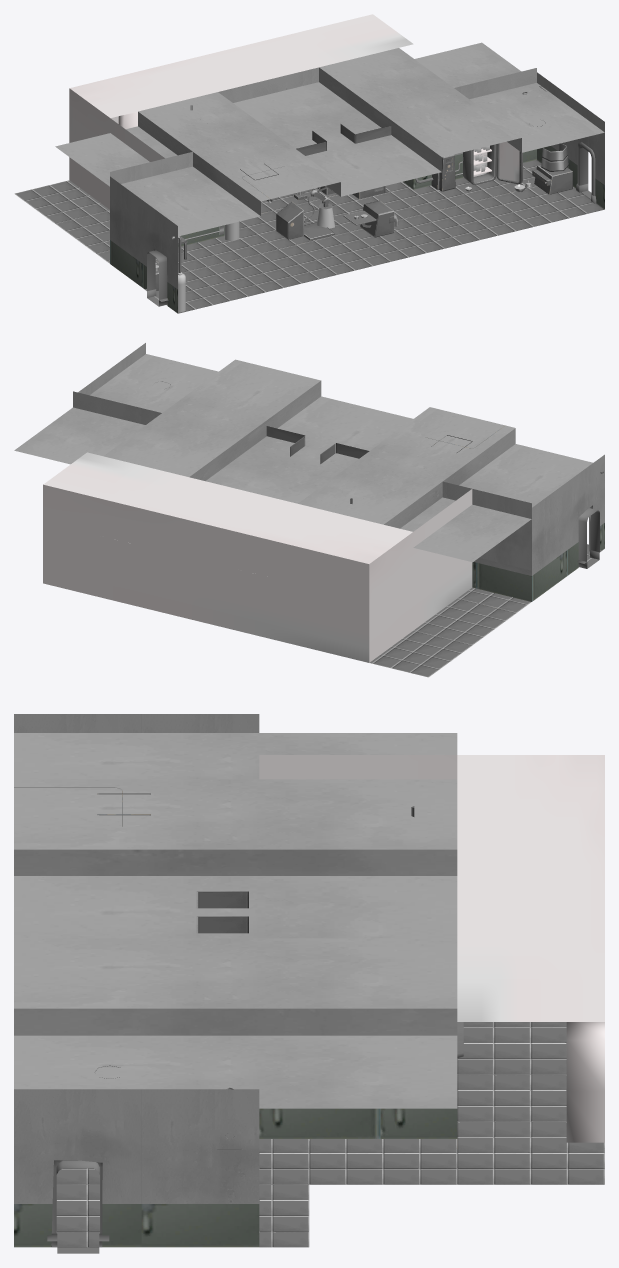
The model's file is MSH_Science_Lab_room_L2_R3_optimized.fbx.
The picture shows the model from 3 angles, top to bottom: view 1: azimuth 30°, elevation 25°; view 2: azimuth 150°, elevation 25°; view 3: azimuth 270°, elevation 25°; orthographic projection. The views are drawn at different scales.
Visible parts, largest first — view 1: lightmap0, lightmap1, lightmap-1; view 2: lightmap0, lightmap-1; view 3: lightmap0, lightmap1.
Boxes of the visible parts, left/top/right/bottom form: lightmap0: left=14, top=14, right=604, bottom=313; lightmap1: left=118, top=105, right=572, bottom=312; lightmap-1: left=147, top=145, right=591, bottom=306; lightmap0: left=14, top=343, right=604, bottom=677; lightmap-1: left=578, top=508, right=599, bottom=568; lightmap0: left=14, top=714, right=604, bottom=1247; lightmap1: left=14, top=787, right=604, bottom=1142.
Size of the model in its own units: 30.91 by 6.54 by 19.9.
